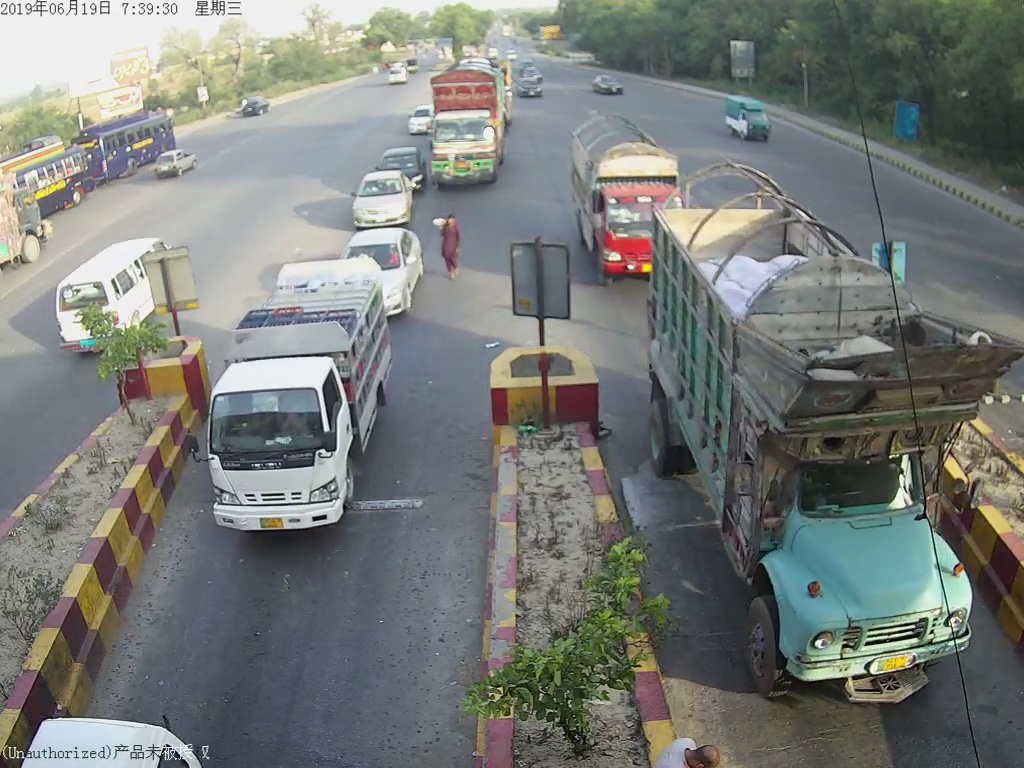Cat-1: (350, 227, 426, 276)
Cat-2: (207, 279, 400, 529)
Cat-4: (648, 163, 1014, 698), (428, 69, 514, 188)
